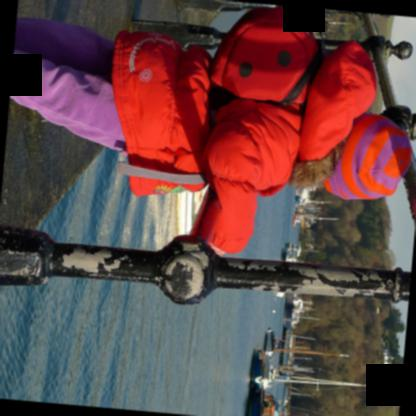backpack: (206, 6, 327, 105)
